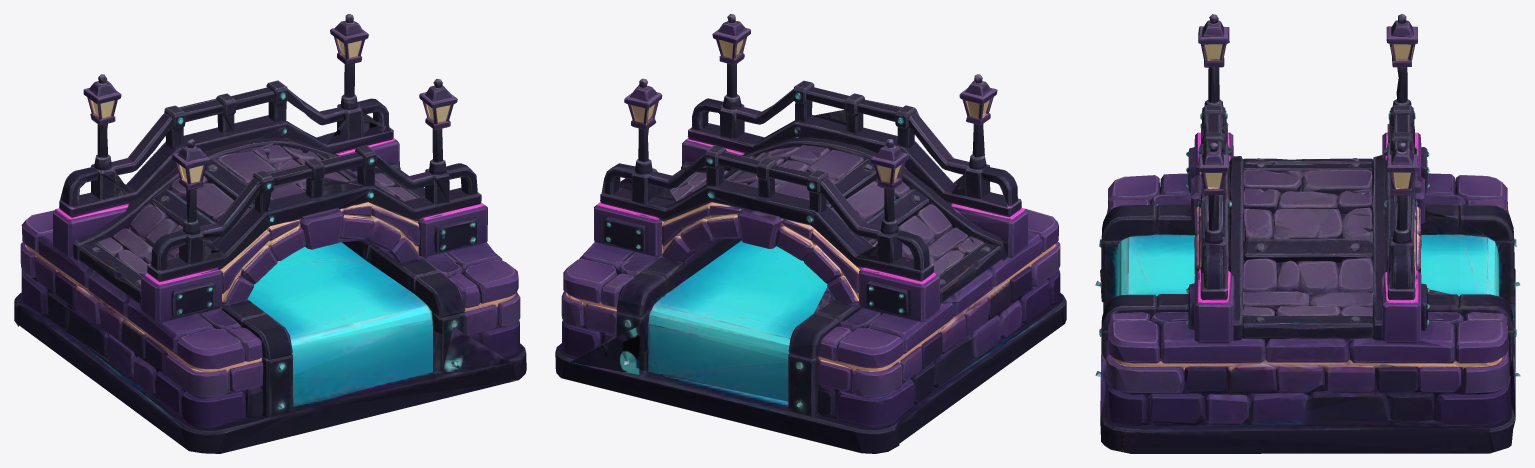
Rendered from tile-bridge.glb.
The picture shows the model from 3 angles, left to right: view 1: azimuth 30°, elevation 25°; view 2: azimuth 150°, elevation 25°; view 3: azimuth 270°, elevation 25°; orthographic projection. The views are drawn at different scales.
Parts seen in each view (by area): view 1: output_unwrapped; view 2: output_unwrapped; view 3: output_unwrapped.
Boxes of the visible parts, x1,y1,x2,y2 form: output_unwrapped: (14,14,526,453); output_unwrapped: (555,14,1066,453); output_unwrapped: (1095,14,1520,453).
Size of the model in its own units: 1.9 by 1.45 by 1.94.
Materials: 1 (1 with a texture image).
